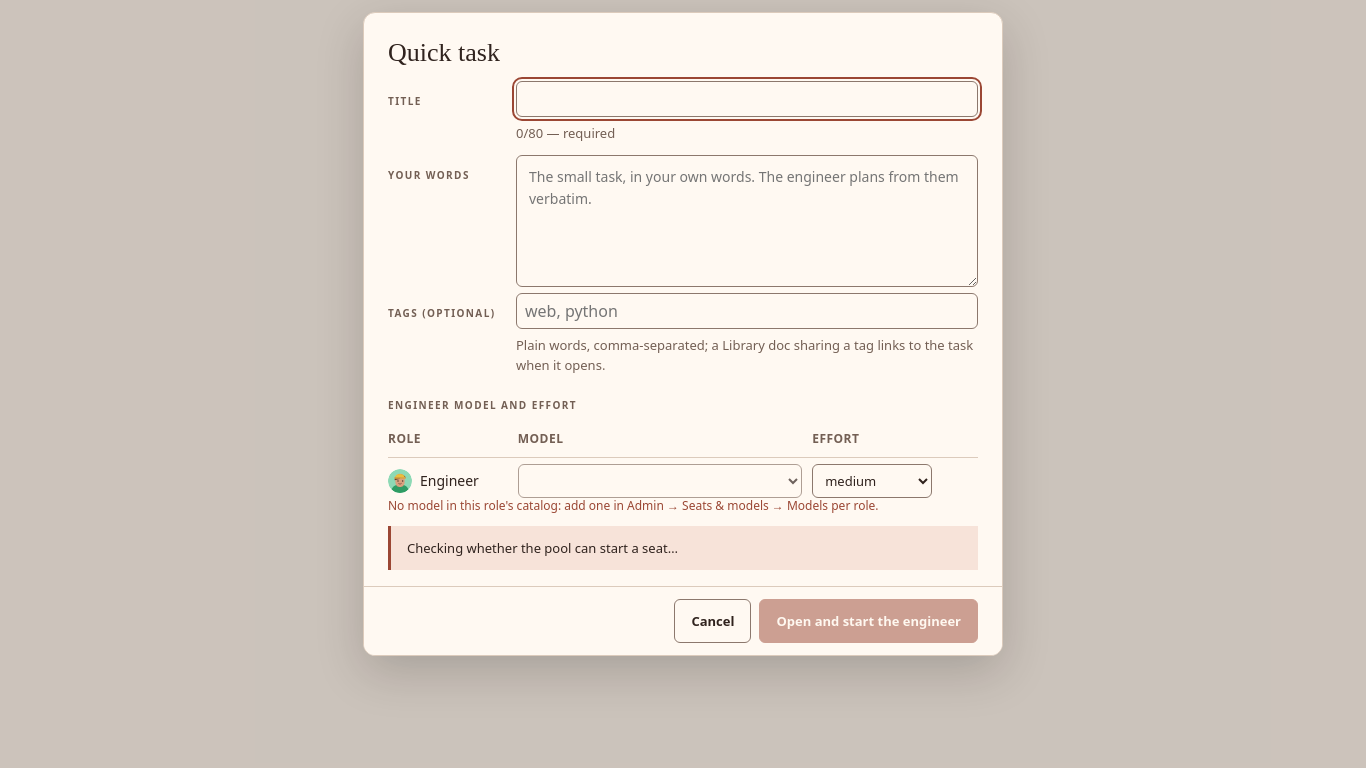
Test: QuickTaskDialog (S-QUICK) › shows the board's refusal verbatim
The width and height of the screenshot is (1366, 768).
Type "T" into the field with test id "quick-task-title" at [747, 99], box [516,81,978,117]
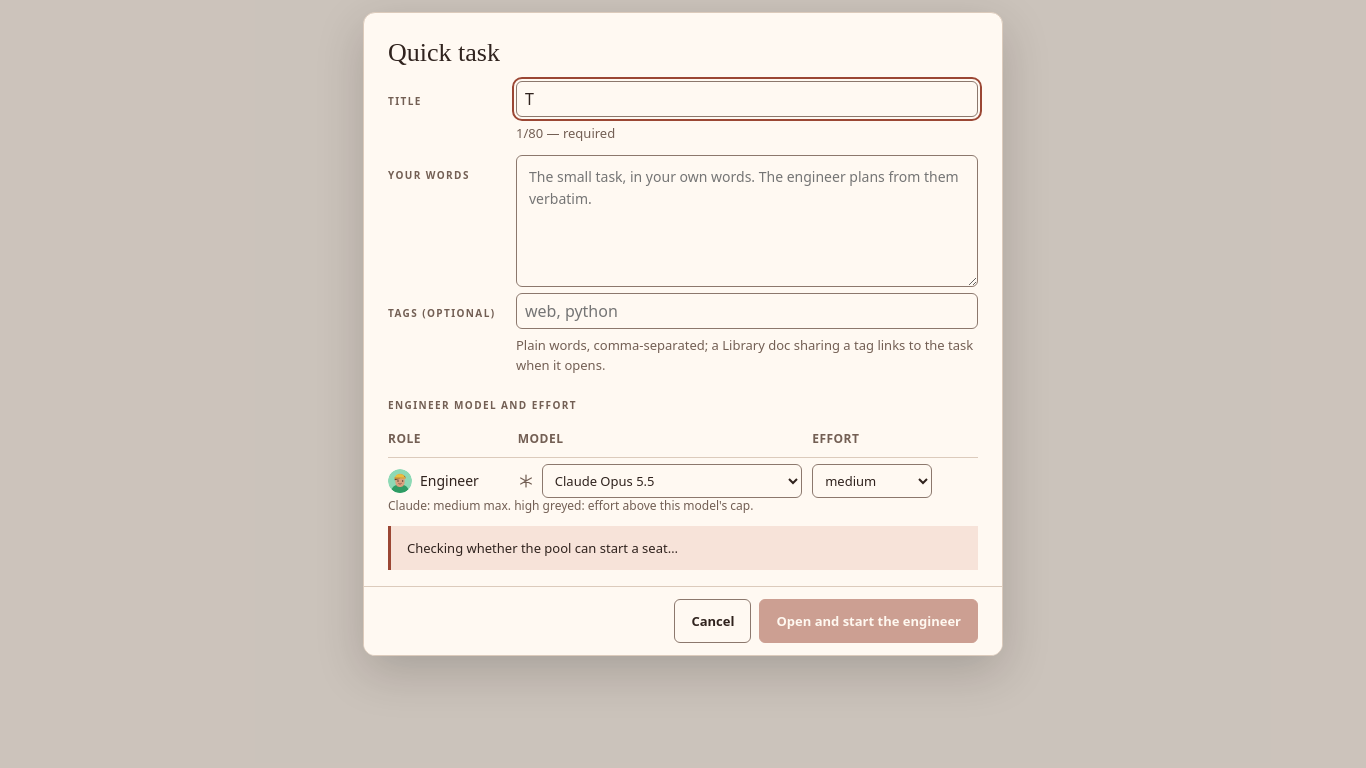
Replace the text in the text box with test id "quick-task-words" with "w" at [747, 221], box [516,155,978,287]
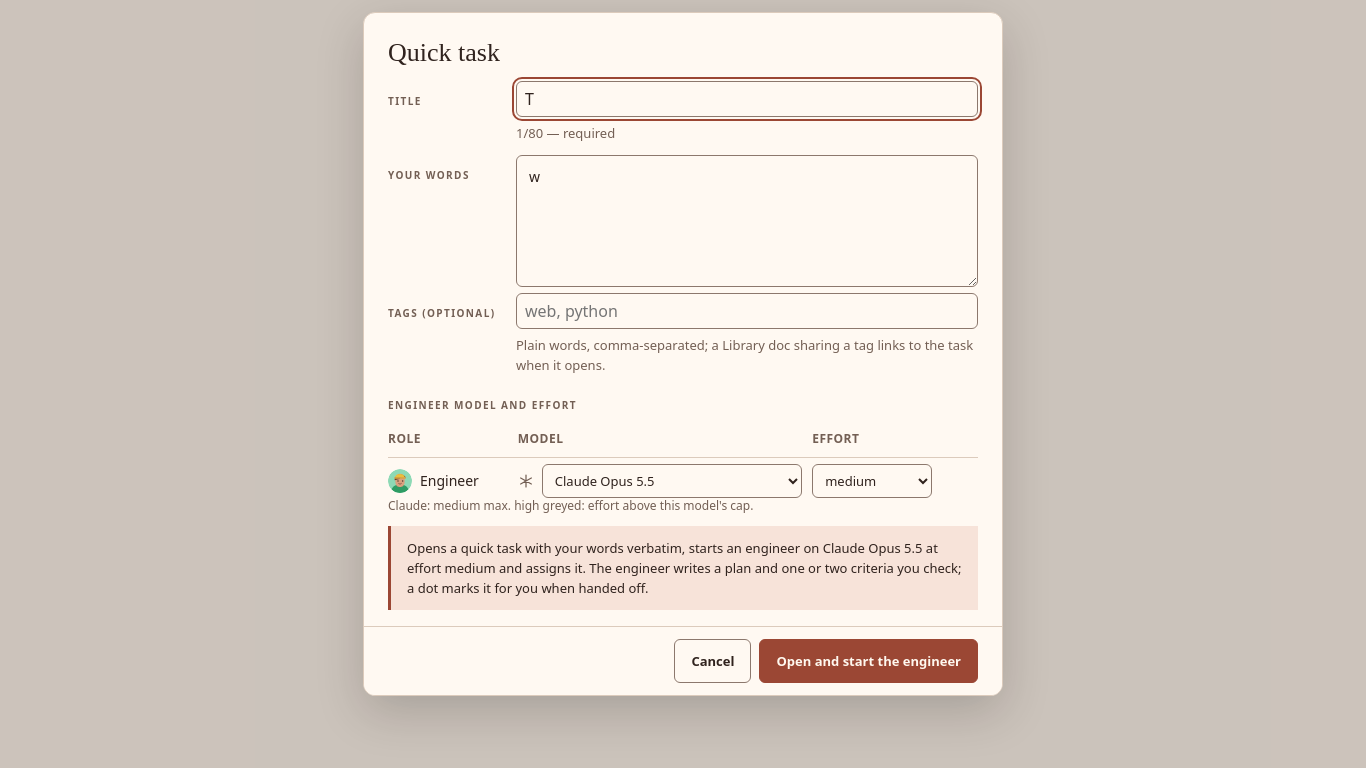
Now the button with test id "quick-task-create" is enabled
Click the button with test id "quick-task-create" at [869, 661], box [760,639,978,683]
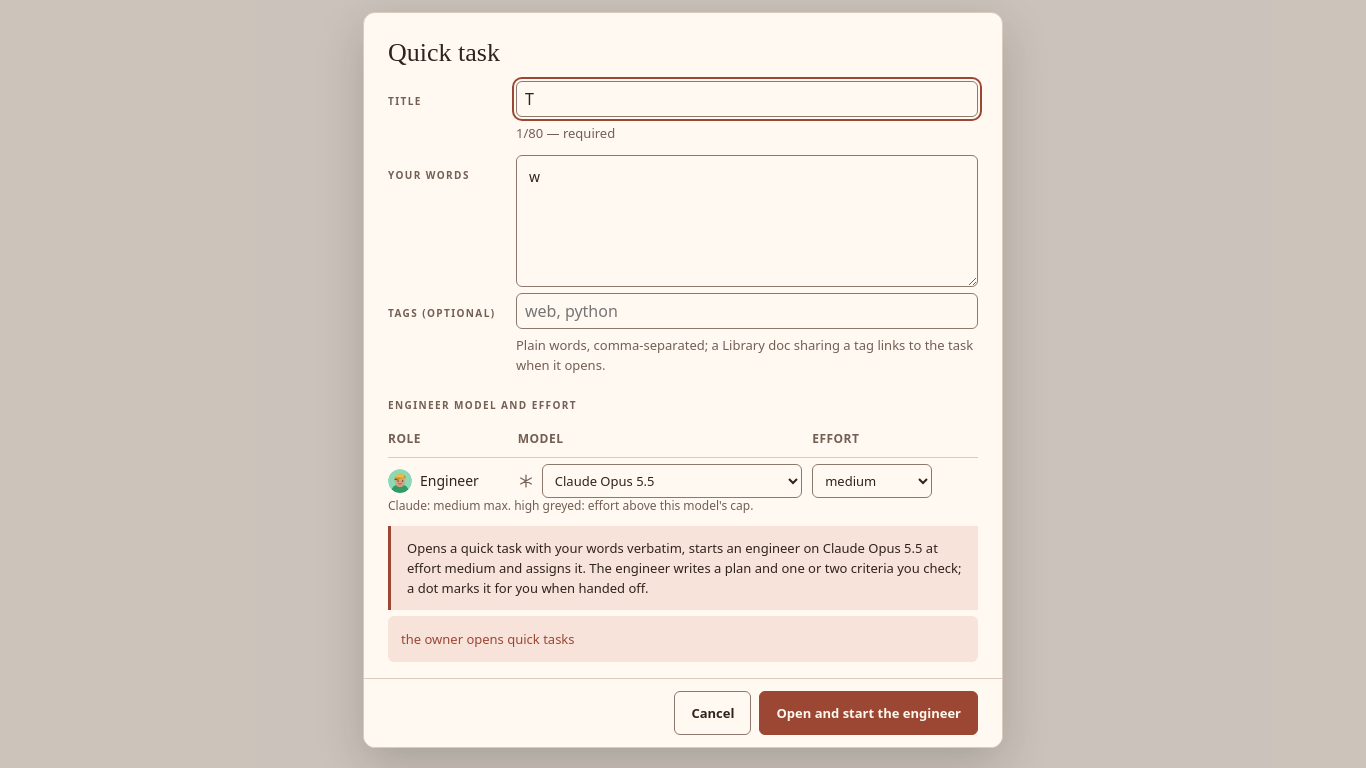
Now the message with test id "quick-task-error" reads "the owner opens quick tasks", box [401,630,574,648]
